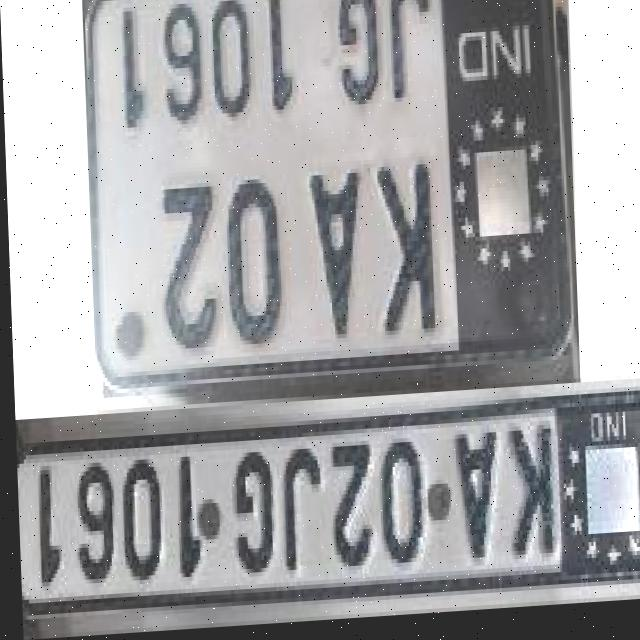plate: (82, 0, 575, 396), (13, 414, 640, 624)
